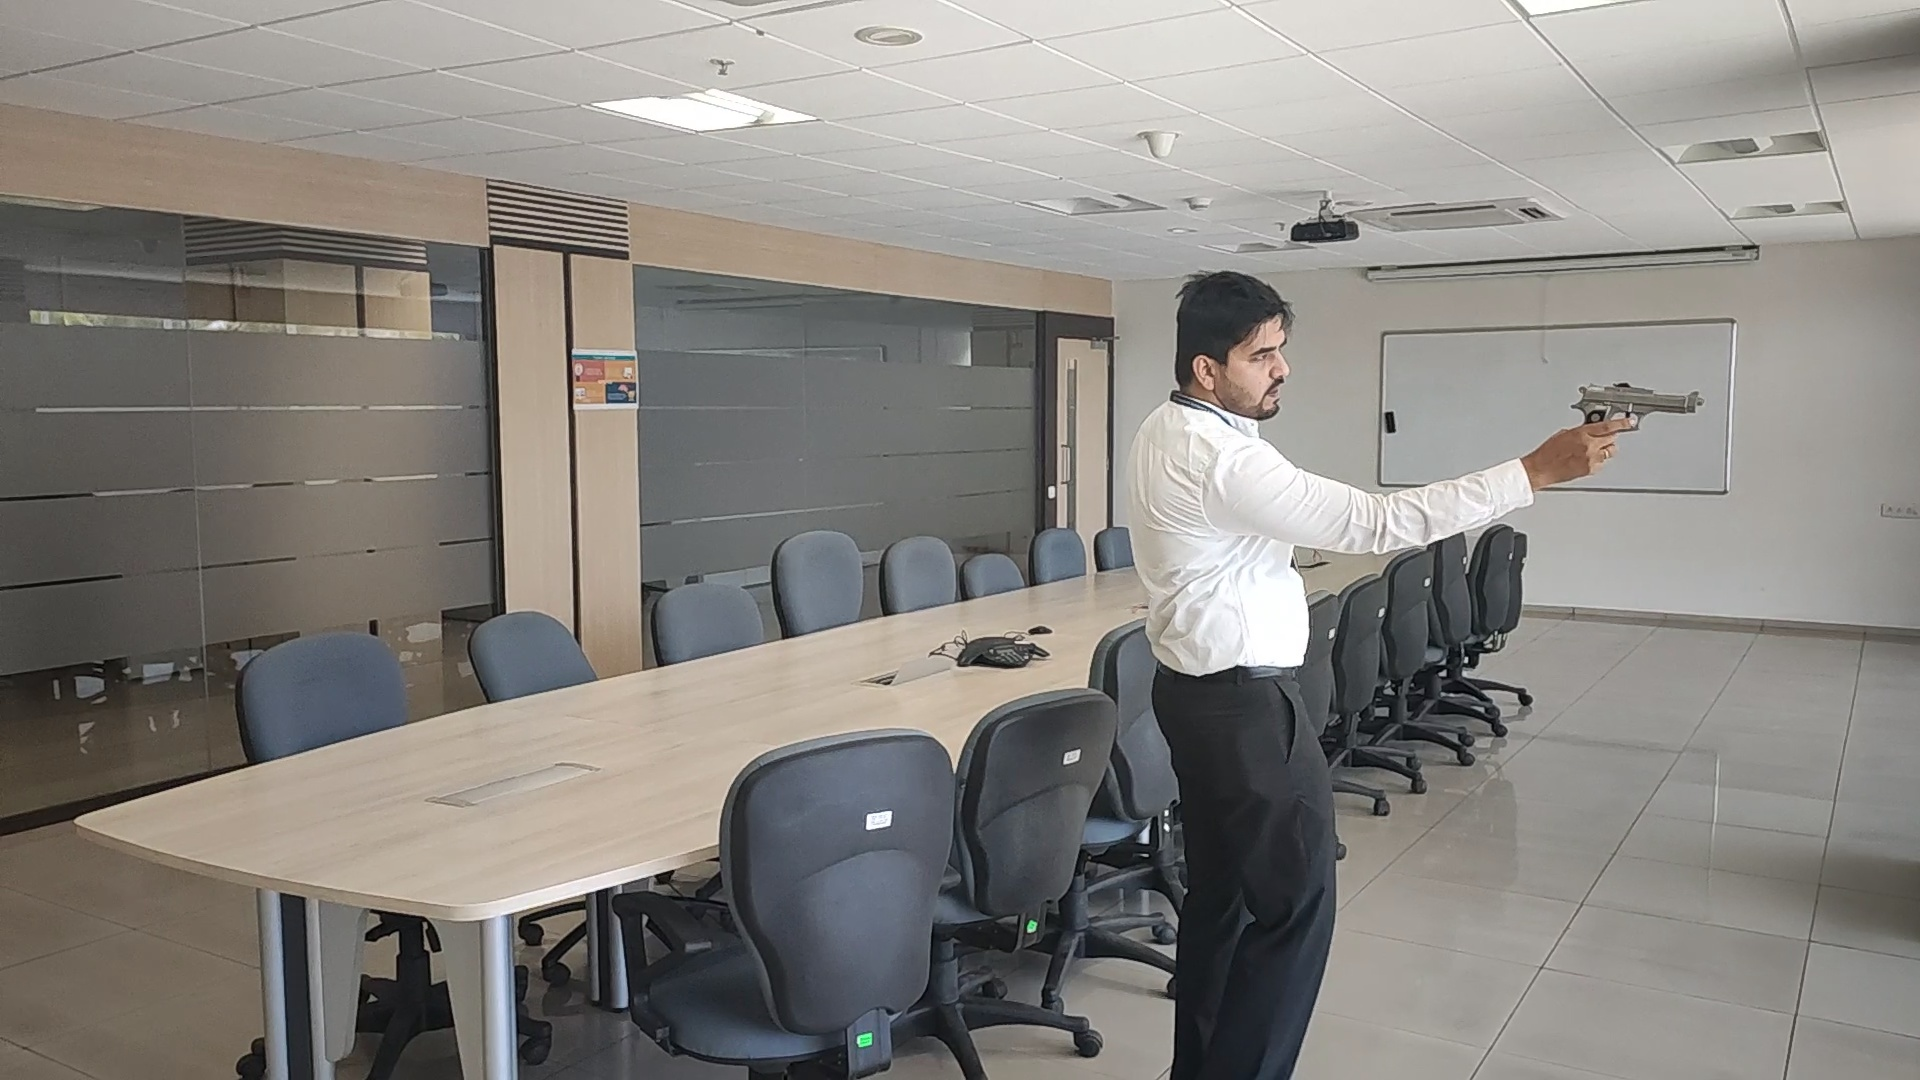gun: (1571, 381, 1705, 419)
